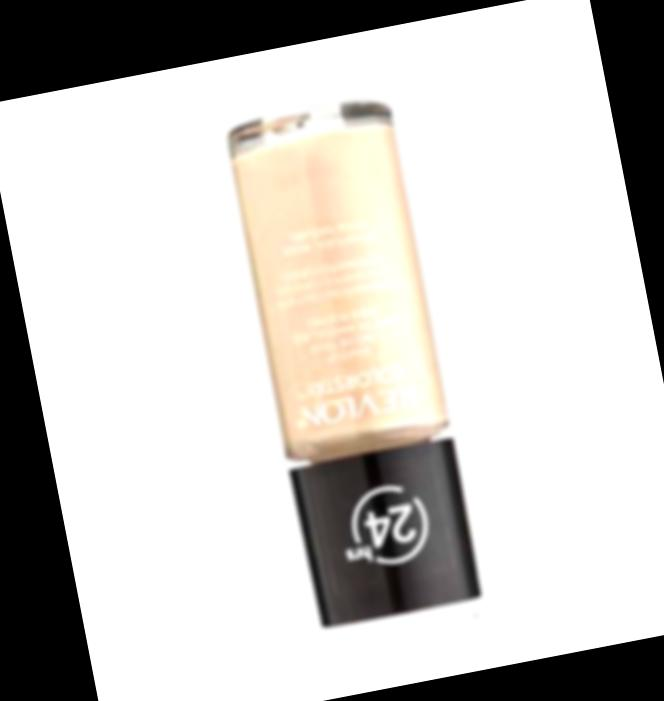cosmetic: (224, 96, 486, 627)
